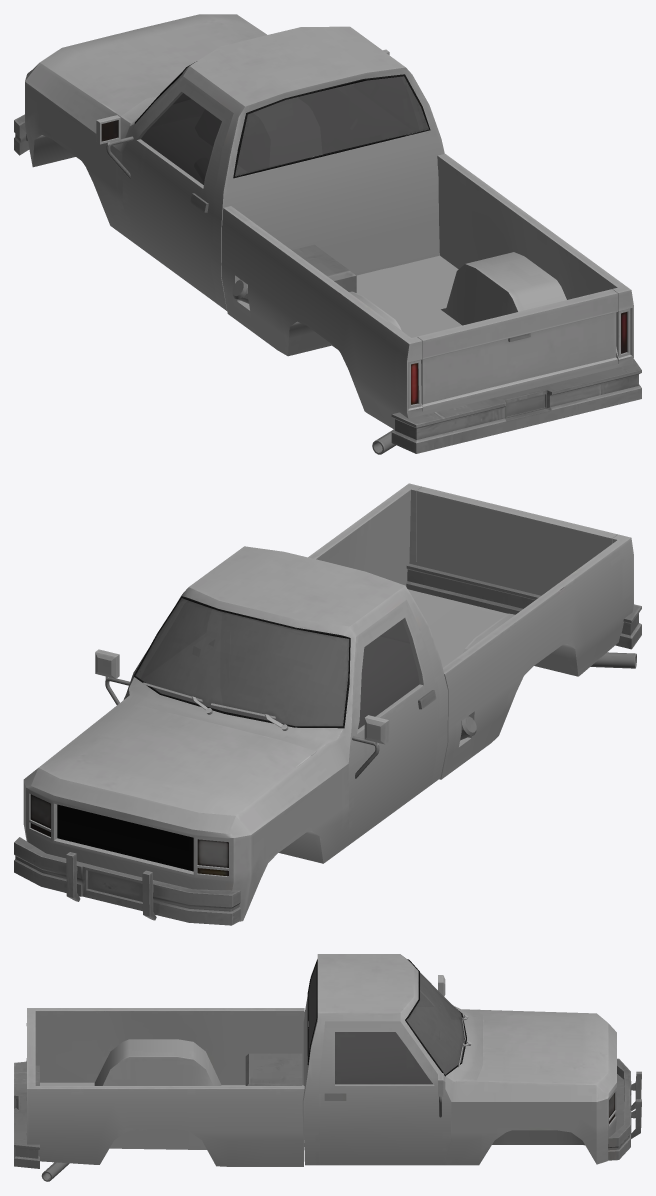
Rendered from pickup.glb.
The picture shows the model from 3 angles, top to bottom: view 1: azimuth 30°, elevation 25°; view 2: azimuth 150°, elevation 25°; view 3: azimuth 270°, elevation 25°; orthographic projection. The views are drawn at different scales.
Parts seen in each view (by area): view 1: pickup_body_pickup_white_0; view 2: pickup_body_pickup_white_0; view 3: pickup_body_pickup_white_0.
Part boxes in pixels (x1,y1,x2,y2): pickup_body_pickup_white_0: (14,14,641,454); pickup_body_pickup_white_0: (14,483,641,925); pickup_body_pickup_white_0: (14,954,641,1181).
Bounding box in the file's own units: 2.11 × 1.48 × 5.3.
1 material, 1 textured.
